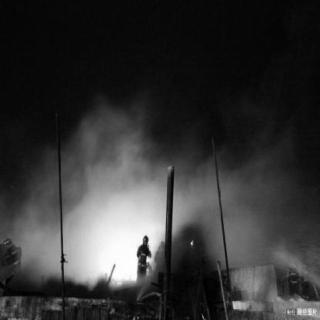Fire: (92, 192, 156, 284)
Smoke: (3, 8, 317, 194)
